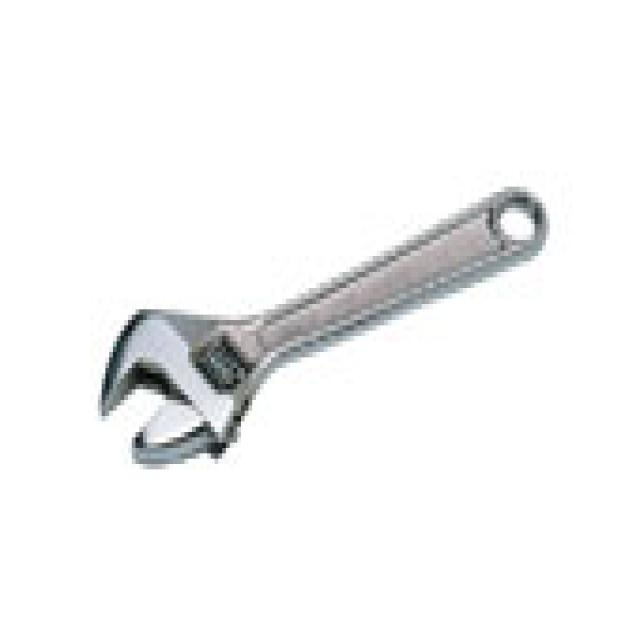wrench: (50, 178, 640, 517)
